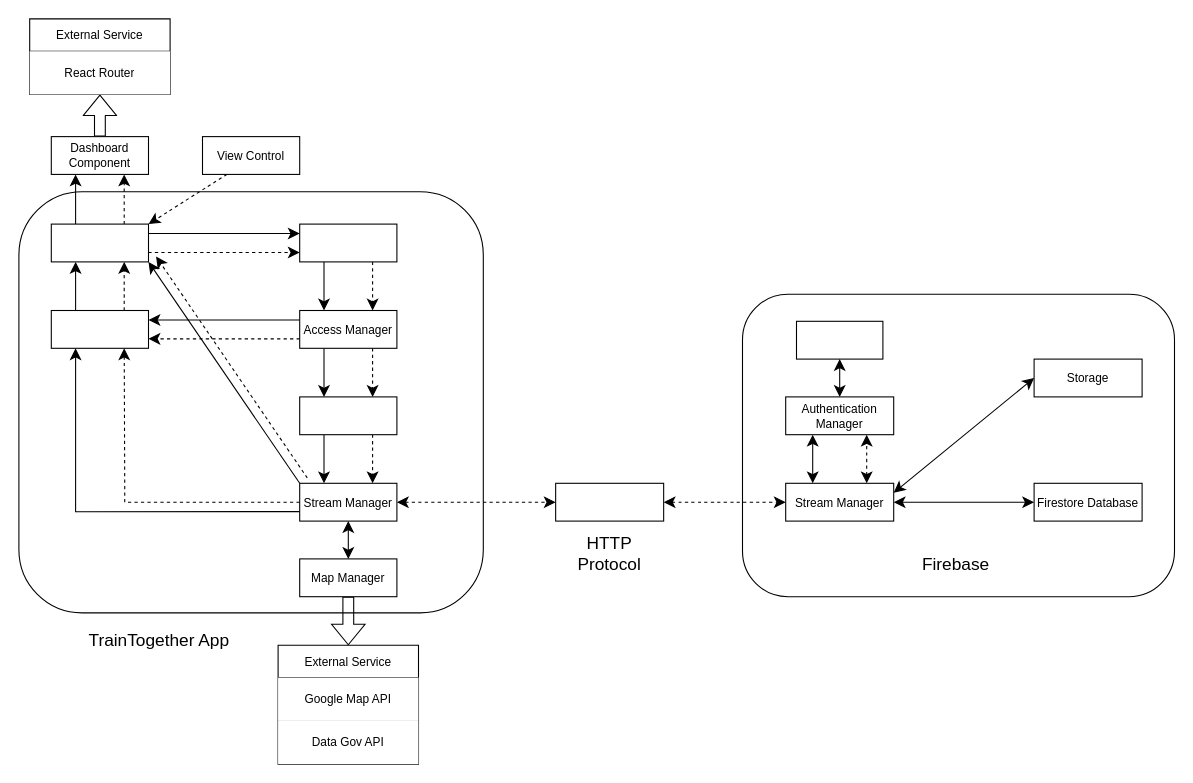
This 1193x783 diagram has some shape labels left out. Each missing label, with the centre of its shape:
"Cache Manager" goes at pixel 99 328.
"Database Controller" goes at pixel 609 501.
"OAuth2" goes at pixel 839 339.
"Presentation Manager" goes at pixel 99 242.
"Protocol Manager" goes at pixel 348 415.
"UI Manager" goes at pixel 348 242.
